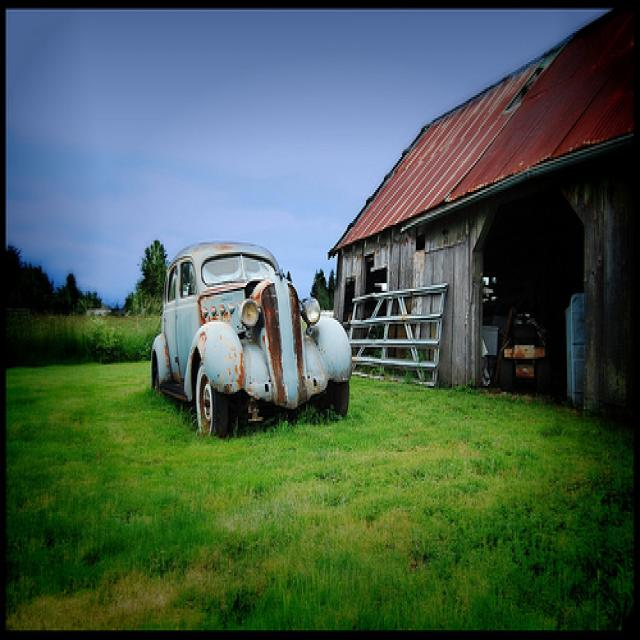Car: (150, 233, 357, 437)
